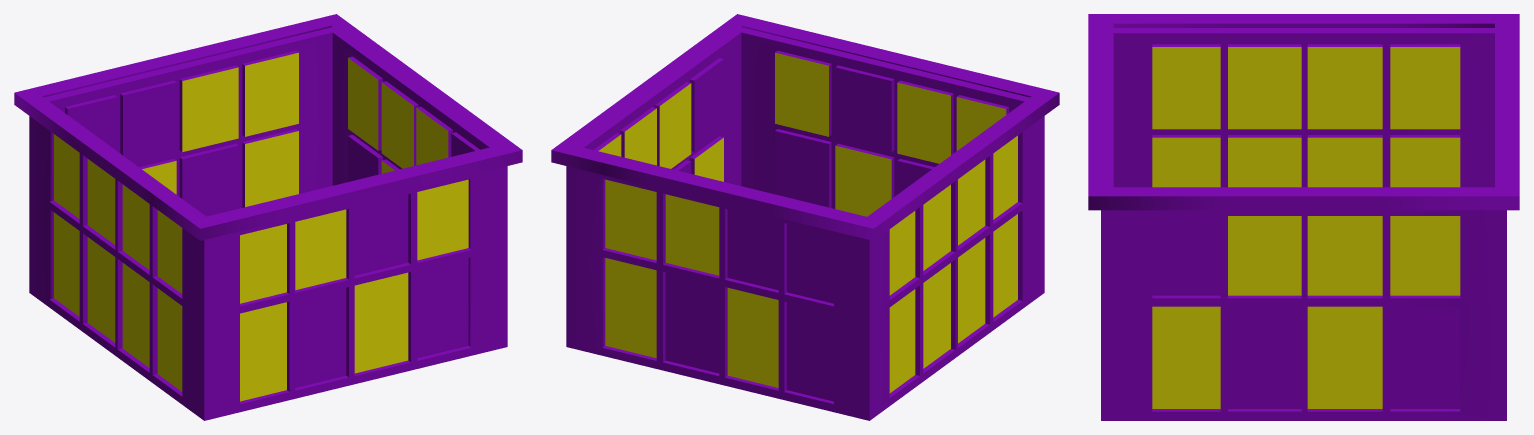
Rendered from Building_Medium_Peice_002.fbx.
3 renders of one model, left to right at view 1: azimuth 30°, elevation 25°; view 2: azimuth 150°, elevation 25°; view 3: azimuth 270°, elevation 25°, orthographic. The views are drawn at different scales.
Visible parts, largest first — view 1: Building_Medium_Piece_002; view 2: Building_Medium_Piece_002; view 3: Building_Medium_Piece_002.
Boxes of the visible parts, x1,y1,x2,y2 form: Building_Medium_Piece_002: (14,14,522,420); Building_Medium_Piece_002: (551,14,1059,420); Building_Medium_Piece_002: (1088,14,1519,420).
Size of the model in its own units: 6800 by 4000 by 6800.
